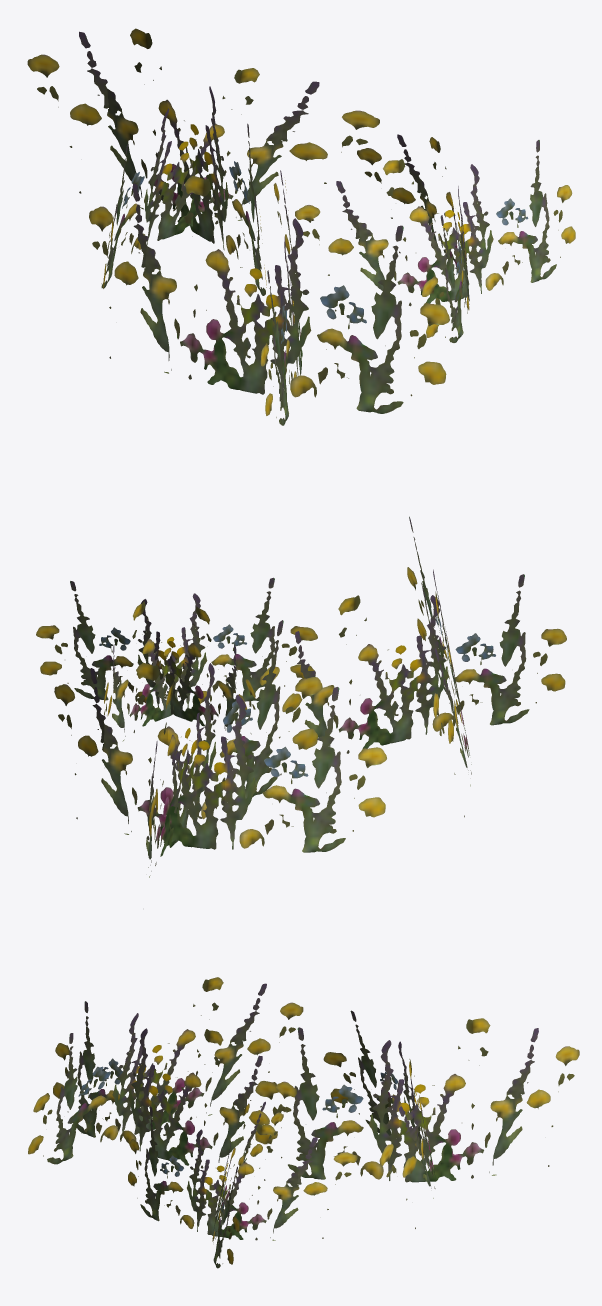
Rendered from meadow_flower_yellow.glb.
The picture shows the model from 3 angles, top to bottom: view 1: azimuth 30°, elevation 25°; view 2: azimuth 150°, elevation 25°; view 3: azimuth 270°, elevation 25°; orthographic projection. The views are drawn at different scales.
Visible parts, largest first — view 1: cluster_8; view 2: cluster_8; view 3: cluster_8.
Boxes of the visible parts, box(x1,y1,x2,y2) form: cluster_8: box(27, 28, 575, 425); cluster_8: box(36, 516, 566, 877); cluster_8: box(28, 977, 579, 1268).
Size of the model in its own units: 2.46 by 1.12 by 3.17.
1 material, 1 textured.
